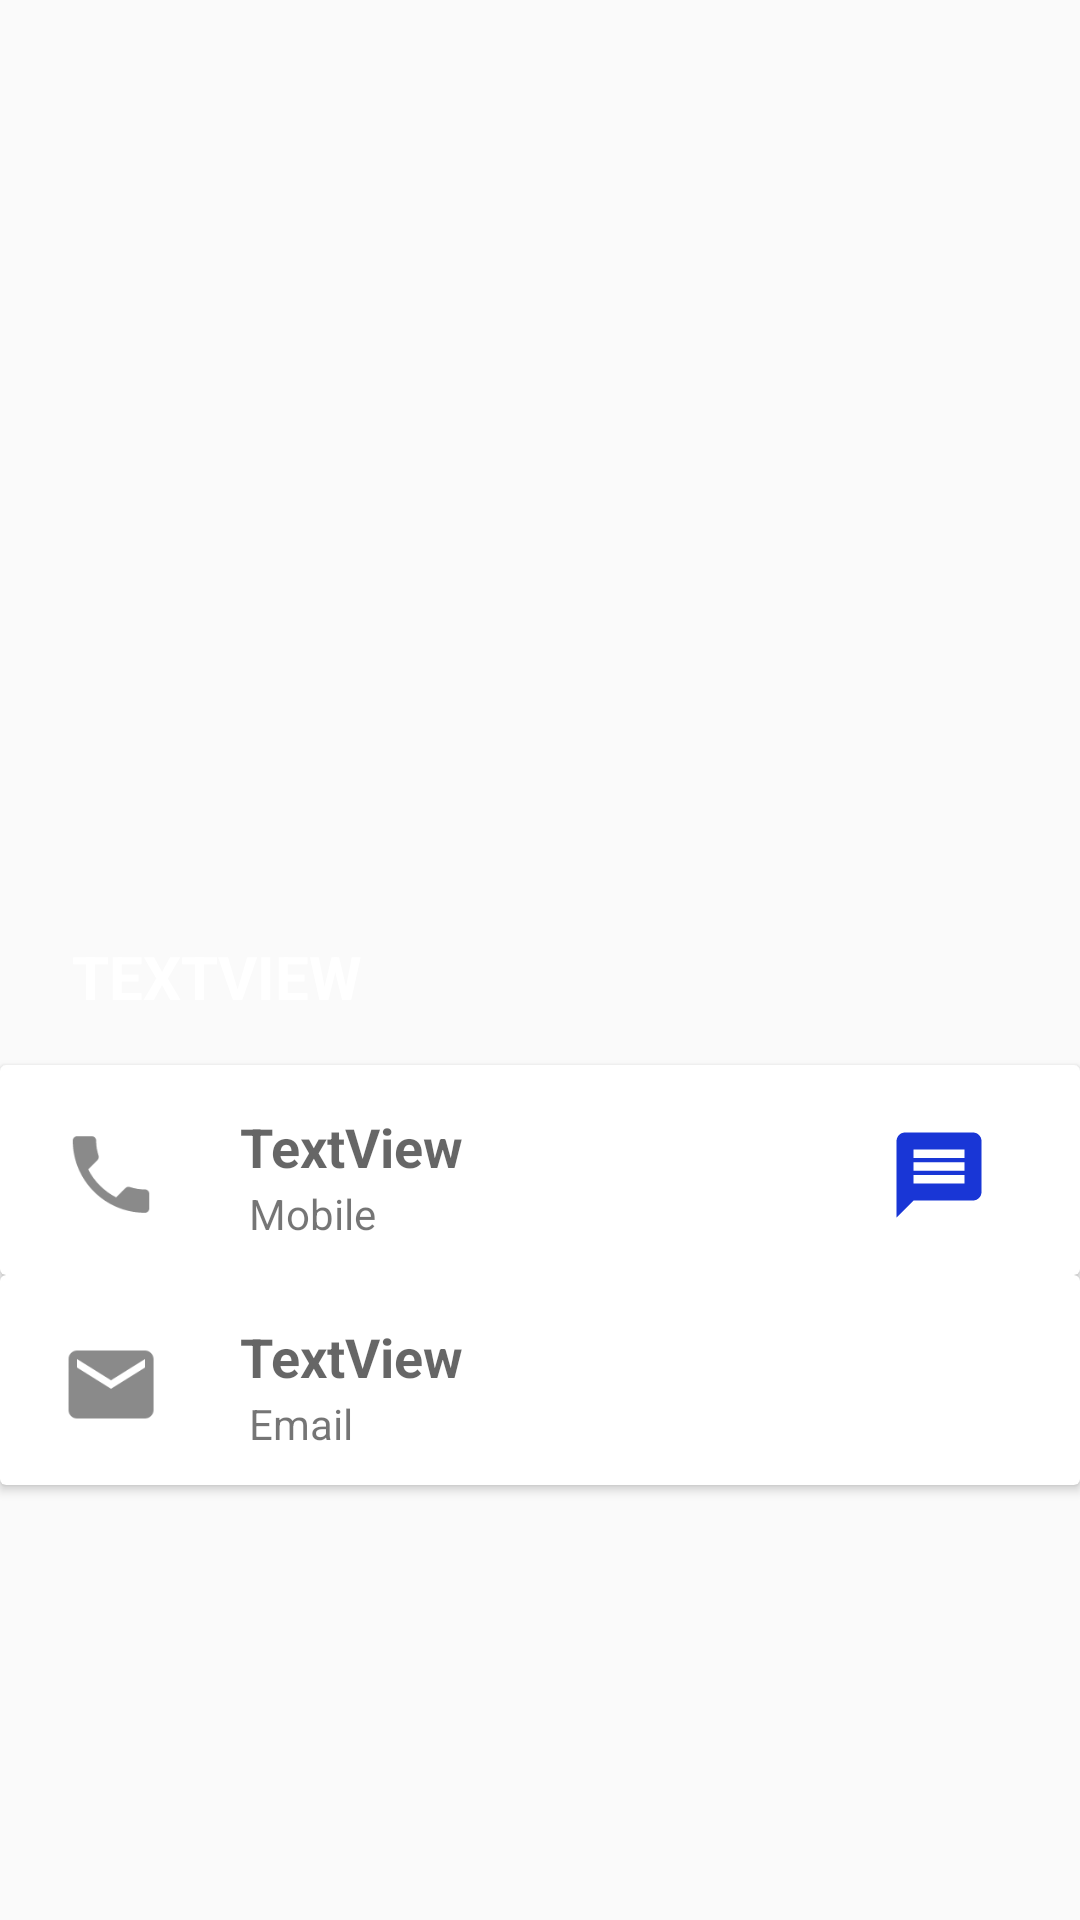

Named icons in this screenshot (1080×1920) and their centers, [x,y]:
message: [939,1175]
phone: [111,1174]
